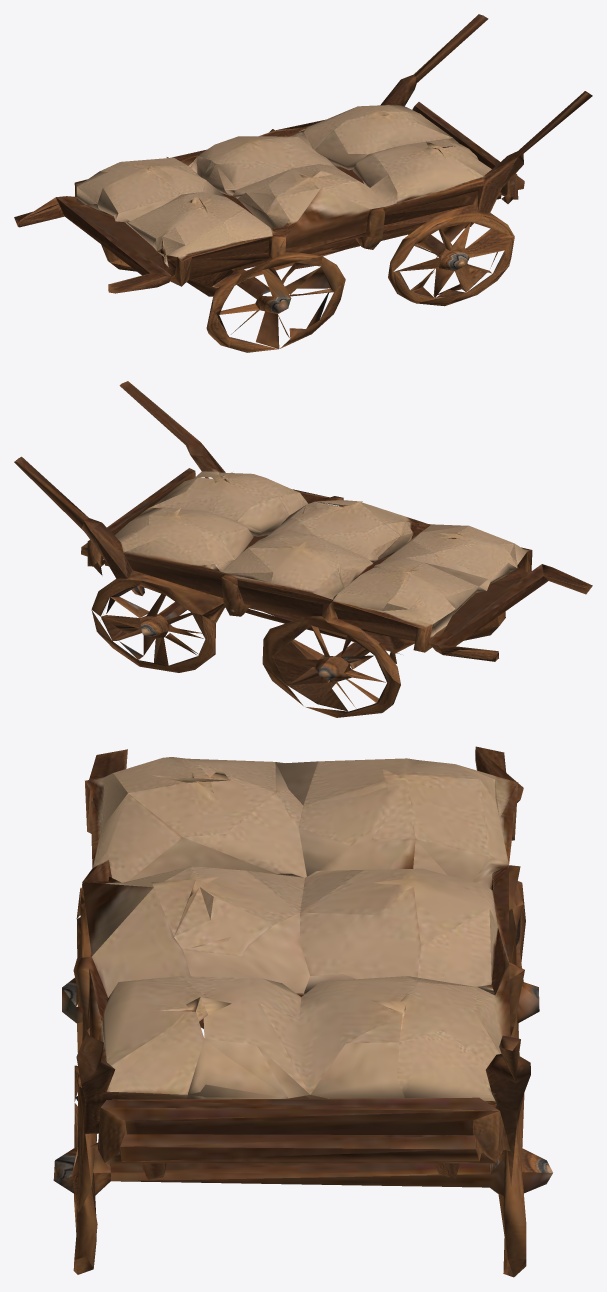
The model's file is grainCart.glb.
3 views of the same model, one above another, from view 1: azimuth 30°, elevation 25°; view 2: azimuth 150°, elevation 25°; view 3: azimuth 270°, elevation 25° (orthographic). The views are drawn at different scales.
Parts seen in each view (by area): view 1: environment-grainCart, environment-grainCart-background; view 2: environment-grainCart, environment-grainCart-background; view 3: environment-grainCart, environment-grainCart-background.
Boxes of the visible parts, x1,y1,x2,y2 form: environment-grainCart: (14, 14, 592, 352); environment-grainCart-background: (76, 128, 500, 318); environment-grainCart: (14, 381, 592, 717); environment-grainCart-background: (99, 478, 516, 657); environment-grainCart: (53, 746, 552, 1277); environment-grainCart-background: (72, 761, 523, 1245).
Size of the model in its own units: 88 by 32 by 40.
Materials: 1 (1 with a texture image).
